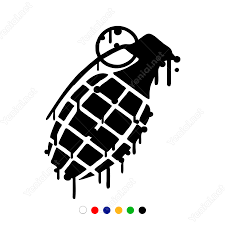e1: (44, 25, 180, 182)
